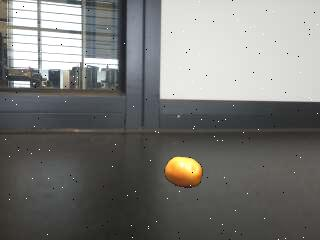Potato: (166, 155, 204, 188)
